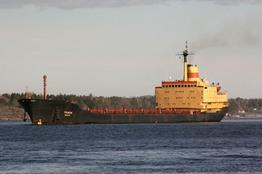Cargoship: (16, 39, 231, 125)
